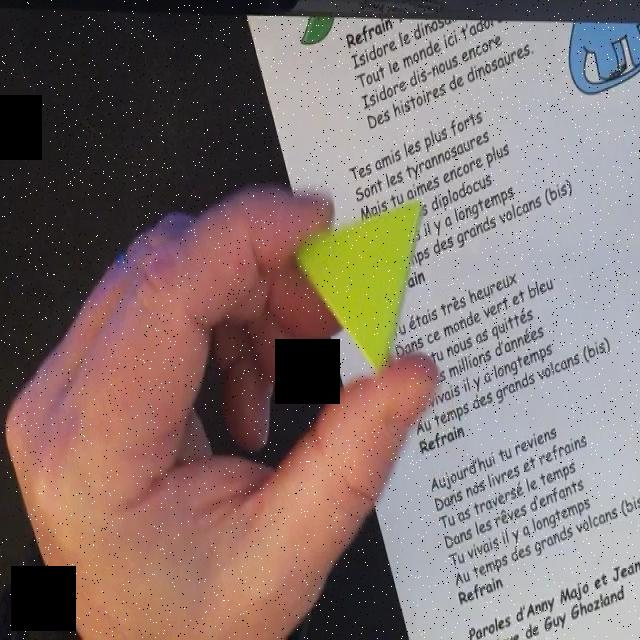triangle: (290, 196, 424, 374)
